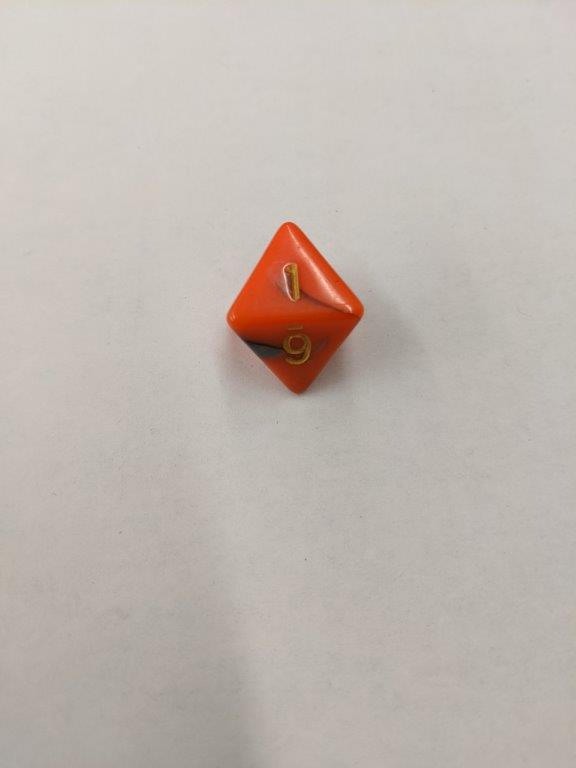d8-1: (224, 218, 363, 401)
